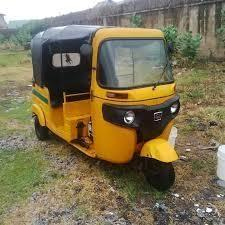keke: (30, 26, 184, 194)
